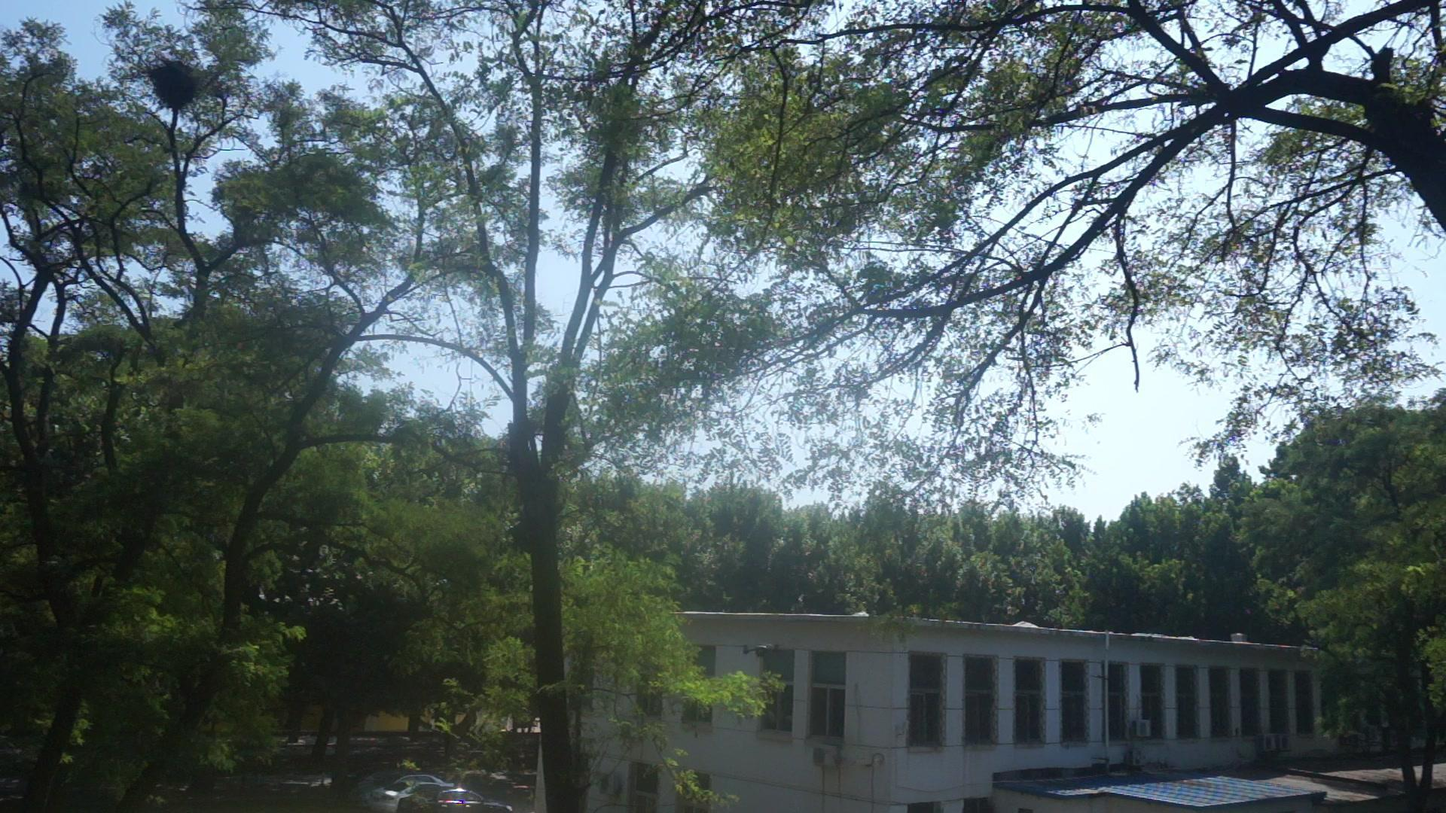UAV: (743, 644, 780, 658)
